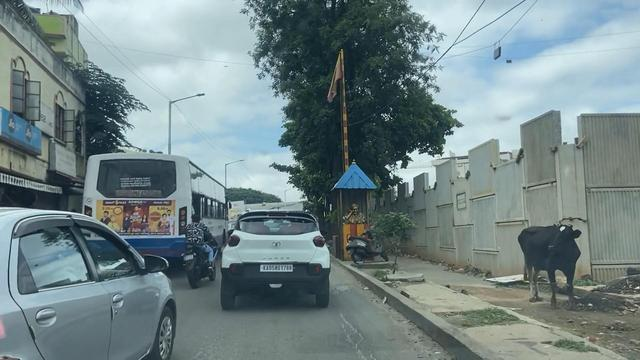LMV: (229, 216, 321, 313), (183, 213, 212, 283)
